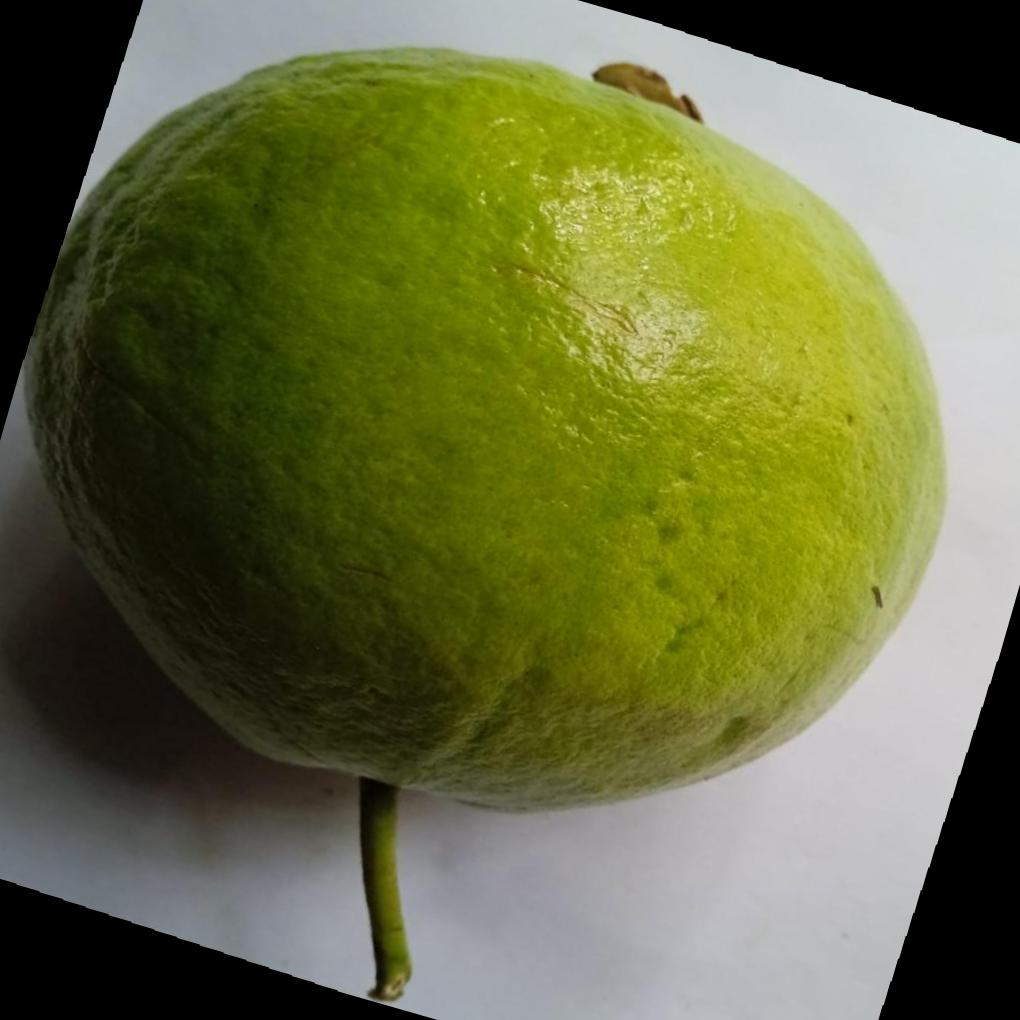FreshGuava: (24, 44, 951, 814)
